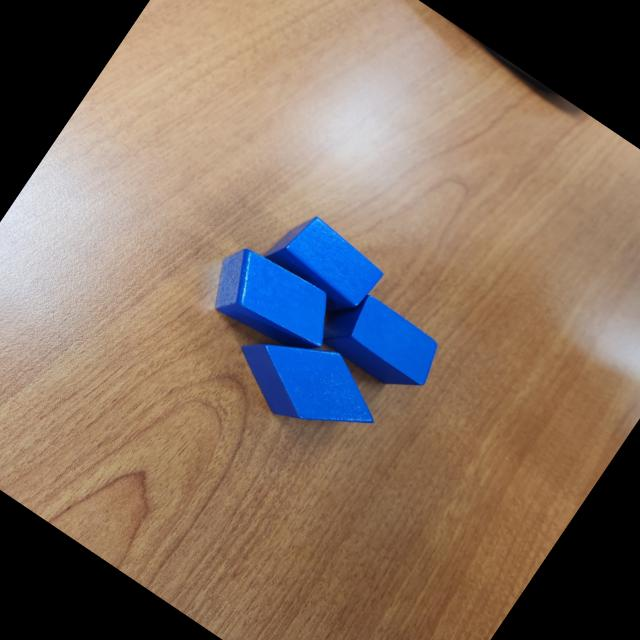blue: (220, 306, 395, 464), (195, 235, 348, 373), (308, 278, 450, 404), (258, 203, 391, 324)
